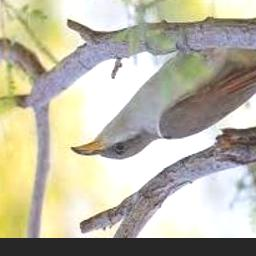Cuckoo: (72, 43, 256, 160)
